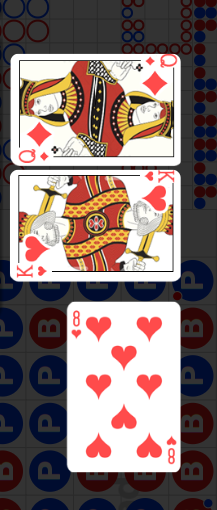8H: (164, 434, 177, 465)
QD: (134, 66, 181, 110), (14, 133, 60, 177)
